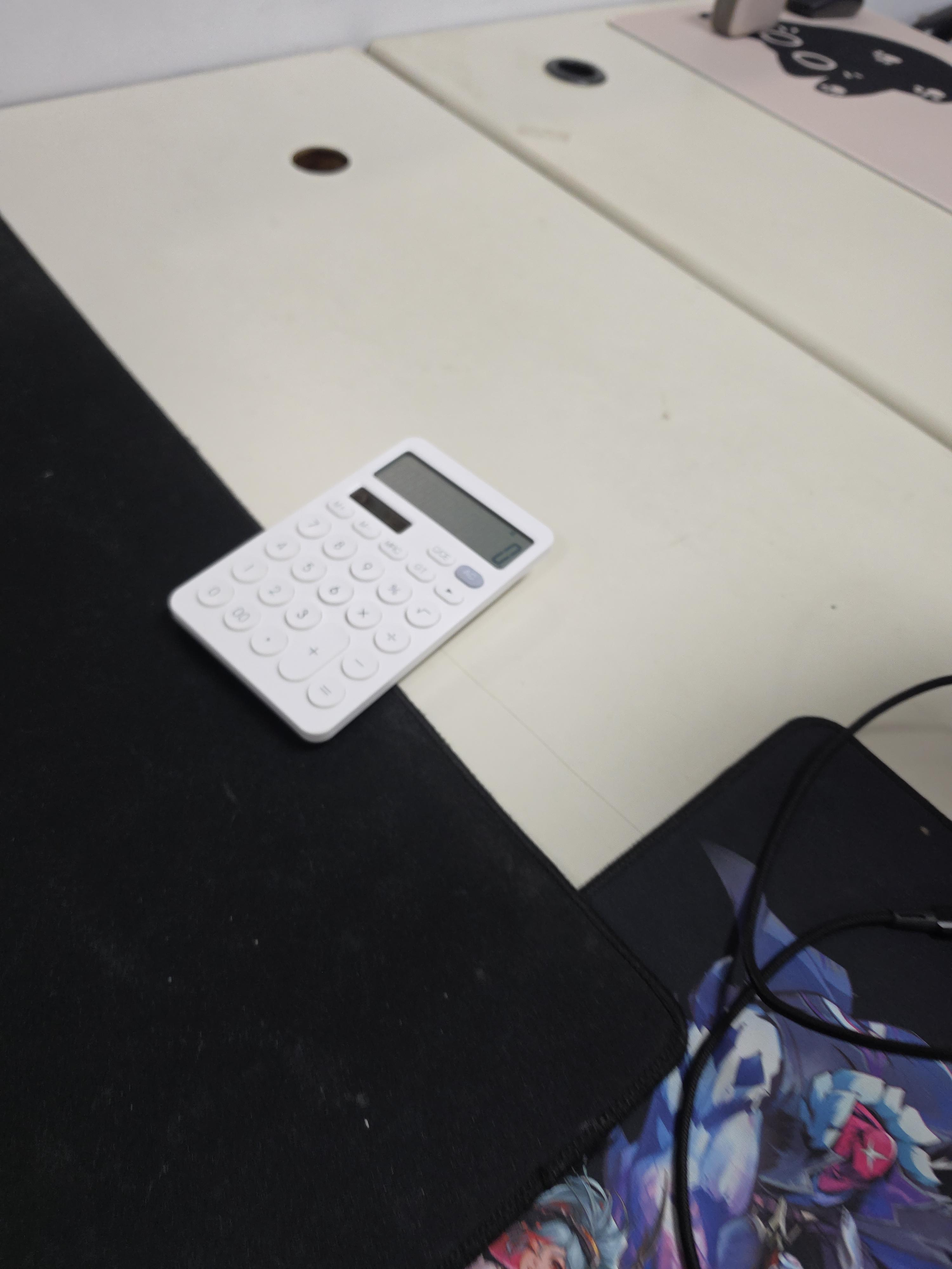calculator: (167, 437, 557, 744)
